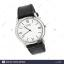watch: (15, 17, 46, 45)
